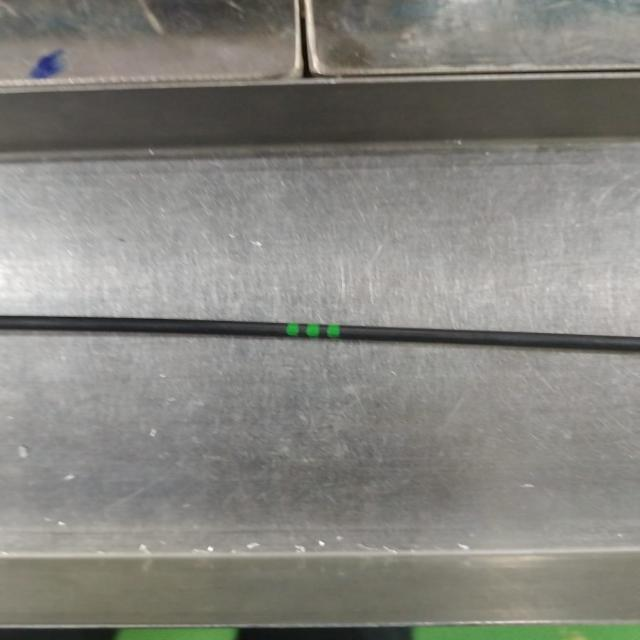green: (286, 324, 340, 339)
